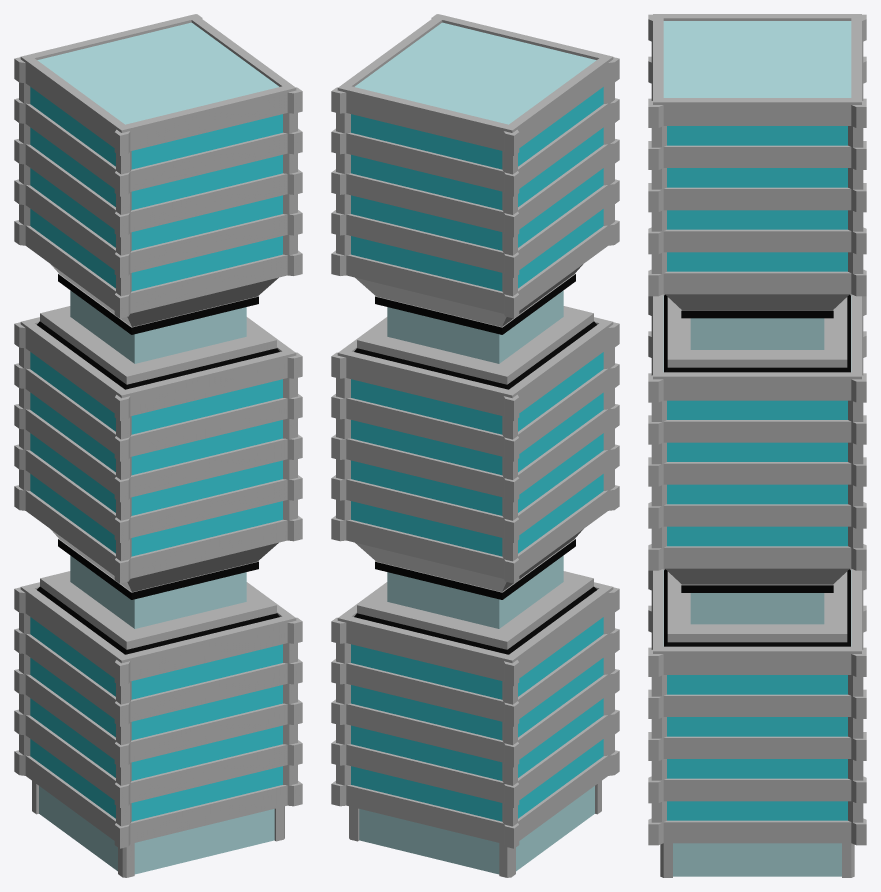
The model's file is Tower.fbx.
3 views of the same model, side by side, from view 1: azimuth 30°, elevation 25°; view 2: azimuth 150°, elevation 25°; view 3: azimuth 270°, elevation 25° (orthographic). The views are drawn at different scales.
Parts seen in each view (by area): view 1: Main.002, Main.001, Main, Middle.001, Middle, Base; view 2: Main.002, Main.001, Main, Middle.001, Middle, Base; view 3: Main.002, Main.001, Main, Middle.001, Middle, Base.
Boxes of the visible parts, <box> form: Main.002: <box>14,14,302,326</box>; Main.001: <box>14,317,302,591</box>; Main: <box>14,582,302,848</box>; Middle.001: <box>37,273,279,389</box>; Middle: <box>37,538,279,654</box>; Base: <box>32,781,284,877</box>; Main.002: <box>331,14,619,326</box>; Main.001: <box>331,317,619,591</box>; Main: <box>331,582,619,848</box>; Middle.001: <box>354,273,596,389</box>; Middle: <box>354,538,596,654</box>; Base: <box>349,781,601,877</box>; Main.002: <box>648,14,866,310</box>; Main.001: <box>648,294,866,584</box>; Main: <box>648,568,866,845</box>; Middle.001: <box>664,294,850,372</box>; Middle: <box>664,569,850,646</box>; Base: <box>660,843,854,877</box>.
Size of the model in its own units: 209 by 823 by 209.
